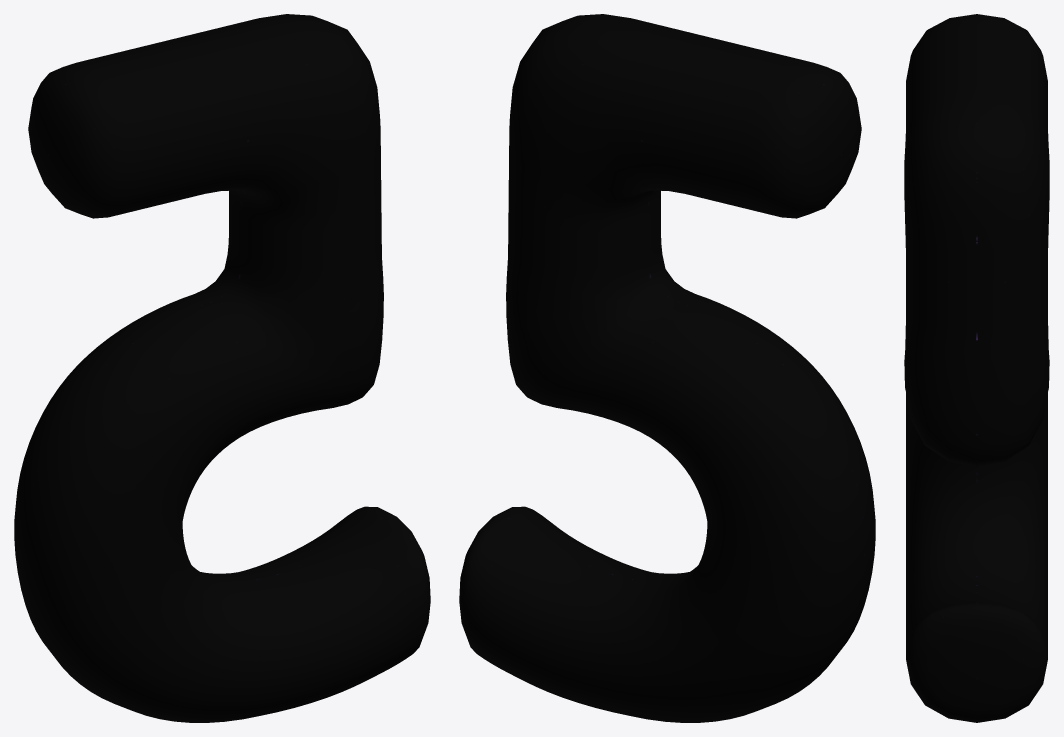
File: numero-5.glb
The picture shows the model from 3 angles, left to right: view 1: azimuth 30°, elevation 25°; view 2: azimuth 150°, elevation 25°; view 3: azimuth 270°, elevation 25°; orthographic projection. The views are drawn at different scales.
Visible parts, largest first — view 1: node_id30; view 2: node_id30; view 3: node_id30.
Boxes of the visible parts, x1,y1,x2,y2 form: node_id30: [14, 14, 430, 722]; node_id30: [459, 14, 875, 722]; node_id30: [904, 14, 1049, 722].
Bounding box in the file's own units: 0.3013 × 0.512 × 0.1127.
1 material, 1 textured.
